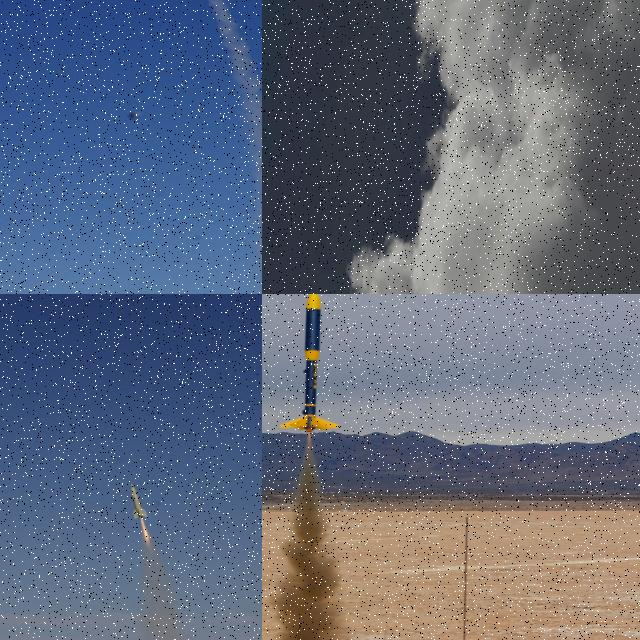Rocket: (279, 294, 341, 432), (130, 483, 149, 519)
